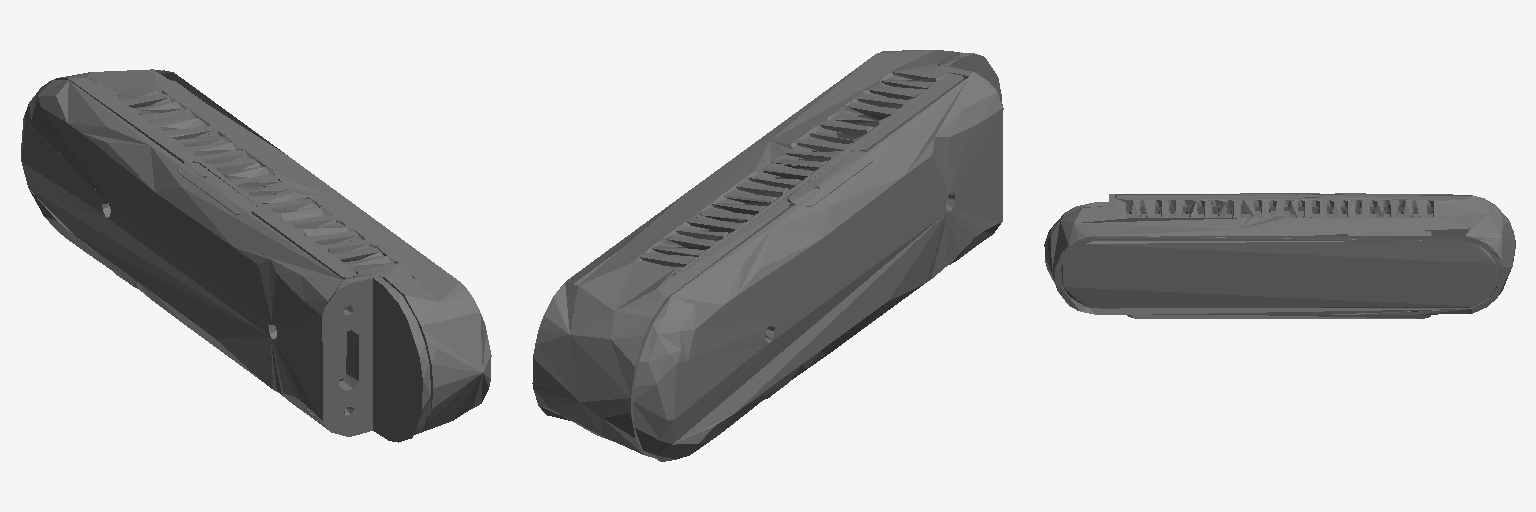
URDF robot description (realsense2_camera):
<?xml version="1.0" ?>
<!-- =================================================================================== -->
<!-- |    This document was autogenerated by xacro from external/intel_realsense_ros_internal/realsense2_description/urdf/test_d415_camera.urdf.xacro | -->
<!-- |    EDITING THIS FILE BY HAND IS NOT RECOMMENDED                                 | -->
<!-- =================================================================================== -->
<robot name="realsense2_camera">
  <material name="aluminum">
    <color rgba="0.5 0.5 0.5 1"/>
  </material>
  <material name="plastic">
    <color rgba="0.1 0.1 0.1 1"/>
  </material>
  <link name="base_link"/>
  <!-- camera body, with origin at bottom screw mount -->
  <joint name="camera_joint" type="fixed">
    <origin rpy="0 0 0" xyz="0 0 0"/>
    <parent link="base_link"/>
    <child link="camera_bottom_screw_frame"/>
  </joint>
  <link name="camera_bottom_screw_frame"/>
  <joint name="camera_link_joint" type="fixed">
    <origin rpy="0 0 0" xyz="0 0.02 0.0115"/>
    <parent link="camera_bottom_screw_frame"/>
    <child link="camera_link"/>
  </joint>
  <link name="camera_link">
    <visual>
      <origin rpy="1.5707963267948966 0 1.5707963267948966" xyz="0.00987 -0.02 0"/>
      <geometry>
        <mesh filename="../meshes/d415.obj"/>
      </geometry>
      <material name="aluminum"/>
    </visual>
    <collision>
      <origin rpy="0 0 0" xyz="0 -0.02 0"/>
      <geometry>
        <box size="0.02005 0.099 0.023"/>
      </geometry>
    </collision>
    <inertial>
      <mass value="0.072"/>
      <!-- The following are not reliable values, and should not be used for modeling -->
      <origin xyz="0 0 0"/>
      <inertia ixx="0.003881243" ixy="0.0" ixz="0.0" iyy="0.000498940" iyz="0.0" izz="0.003879257"/>
    </inertial>
  </link>
</robot>

--- What the picture shows (computed from the rendered views, not written in the file) ---
The picture shows the robot from 3 angles, left to right: view 1: azimuth 30°, elevation 25°; view 2: azimuth 150°, elevation 25°; view 3: azimuth 270°, elevation 25°; orthographic projection.
Robot: realsense2_camera — 3 links, 2 joints (2 fixed); root link base_link; default pose: all joints at 0.
Visible links, largest first — view 1: camera_link; view 2: camera_link; view 3: camera_link.
Boxes of the visible links, x1,y1,x2,y2 form: camera_link: (21,69,491,442); camera_link: (532,50,1003,461); camera_link: (1044,193,1515,318).
Size in the robot's own frame: 0.0201 by 0.0987 by 0.023 metres.
1 mesh visuals loaded from 1 distinct referenced files (1 OBJ).